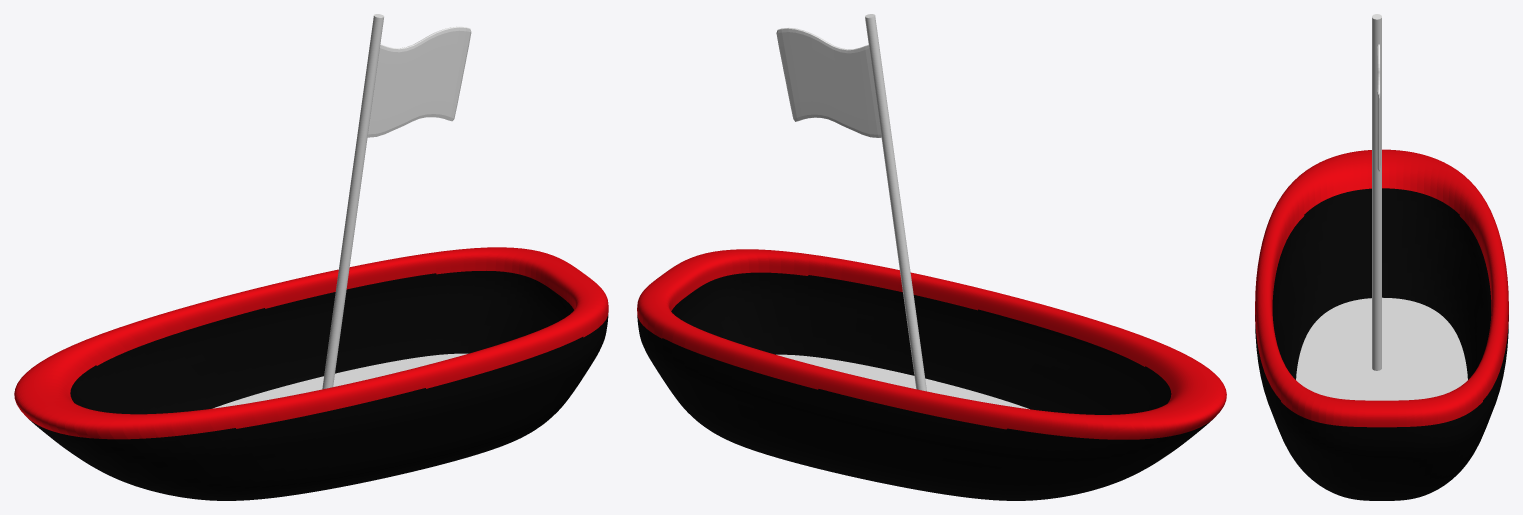
File: Boat.fbx
The picture shows the model from 3 angles, left to right: view 1: azimuth 30°, elevation 25°; view 2: azimuth 150°, elevation 25°; view 3: azimuth 270°, elevation 25°; orthographic projection. The views are drawn at different scales.
Visible parts, largest first — view 1: Cube.025, Cube.027, Cylinder.003, Cube.026; view 2: Cube.025, Cube.027, Cylinder.003, Cube.026; view 3: Cube.025, Cube.026, Cylinder.003, Cube.027.
Boxes of the visible parts, x1,y1,x2,y2 form: Cube.025: [14, 247, 608, 500]; Cube.027: [367, 26, 471, 137]; Cylinder.003: [322, 14, 384, 389]; Cube.026: [213, 353, 467, 408]; Cube.025: [637, 249, 1226, 500]; Cube.027: [776, 28, 881, 137]; Cylinder.003: [865, 14, 926, 391]; Cube.026: [776, 354, 1029, 409]; Cube.025: [1255, 149, 1508, 500]; Cube.026: [1296, 297, 1467, 400]; Cylinder.003: [1372, 14, 1381, 370]; Cube.027: [1377, 44, 1380, 171].
Size of the model in its own units: 3219 by 2444 by 1307.
